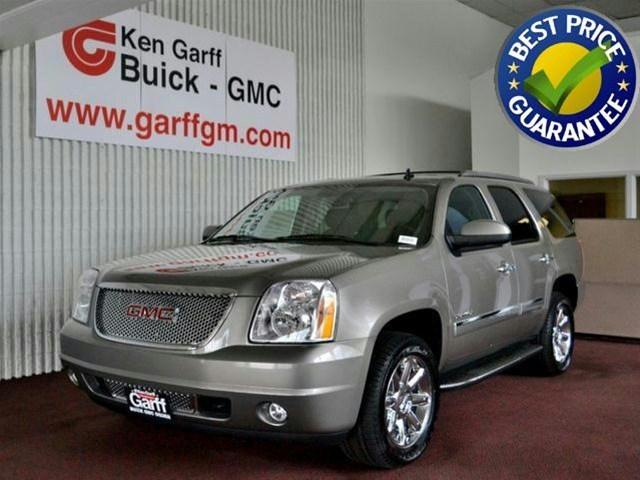GMC: (119, 299, 182, 328)
